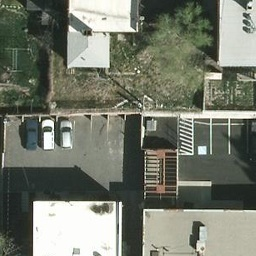car: (59, 117, 76, 149), (41, 118, 55, 148), (25, 119, 39, 149)
